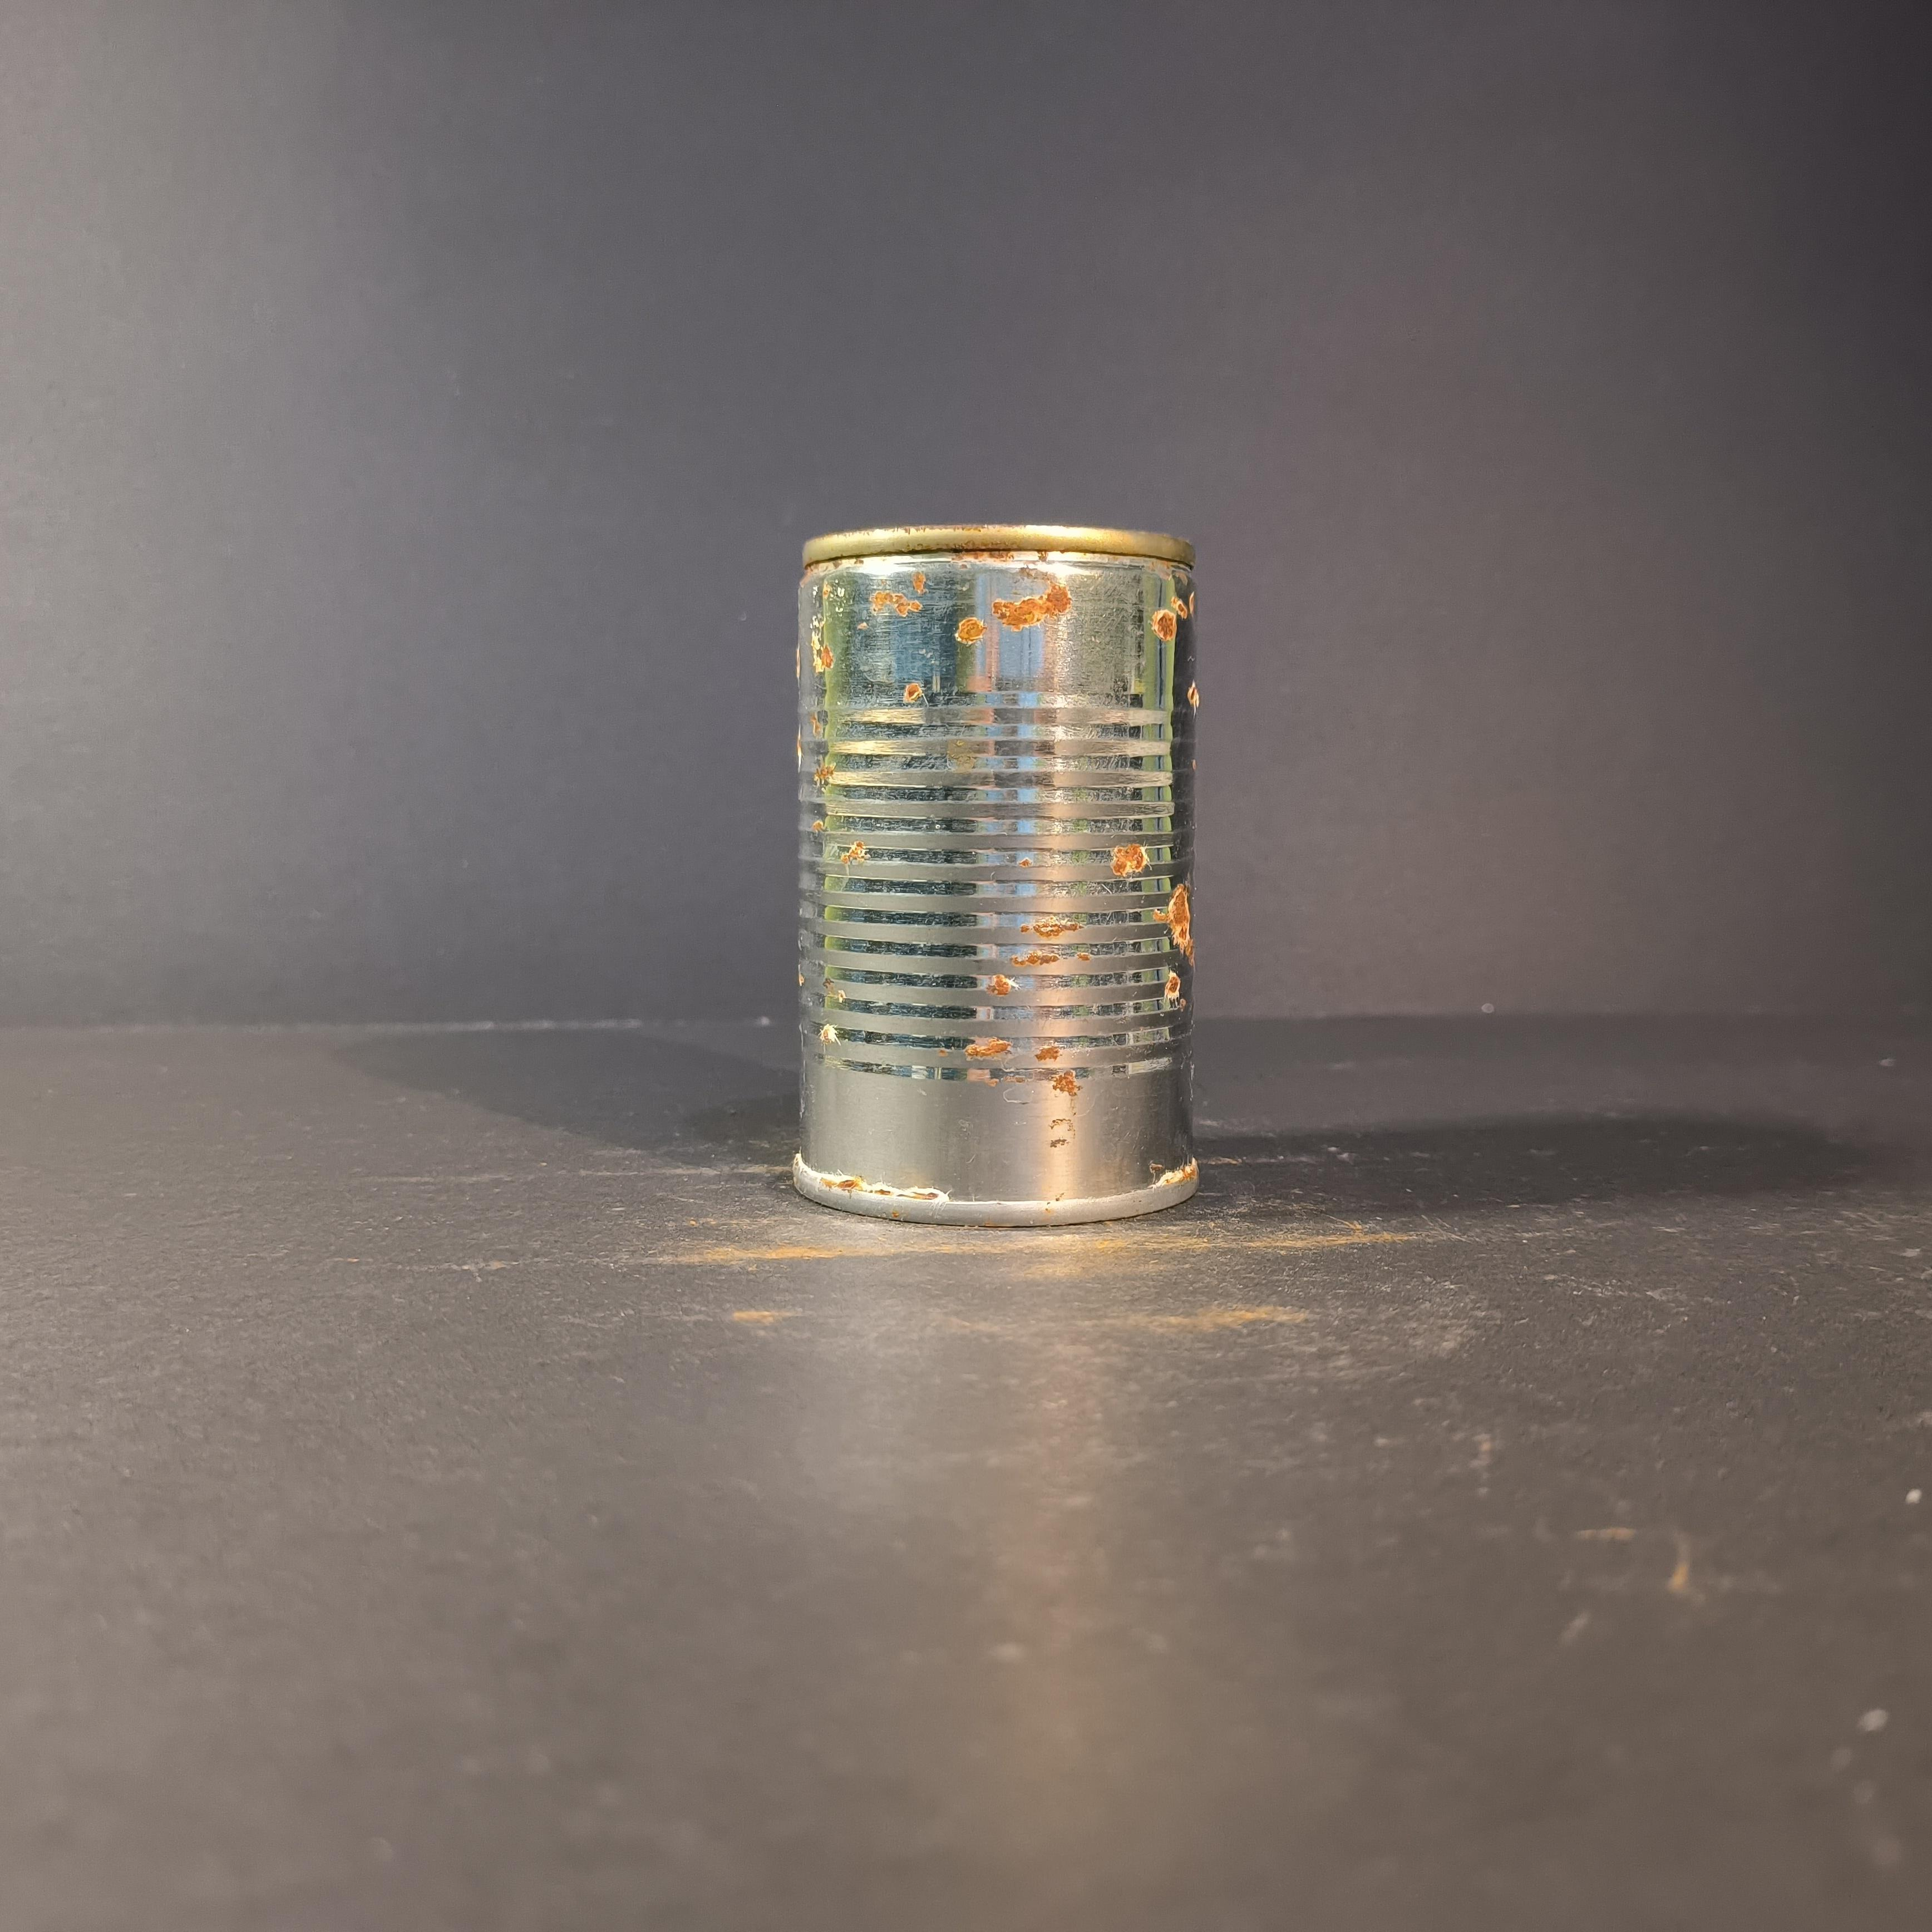Rusted: (791, 495, 1219, 1247)
